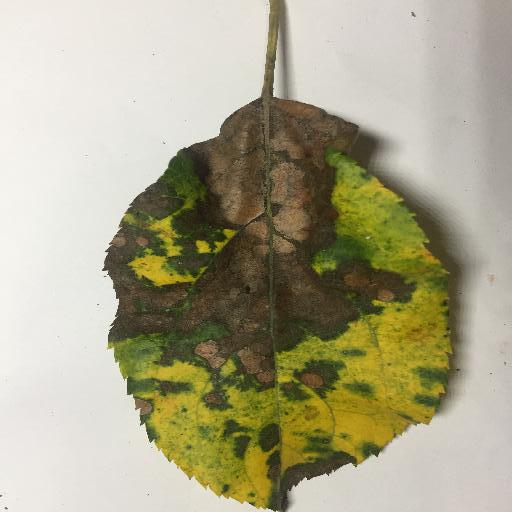Brown_Spot: (116, 99, 428, 344), (242, 350, 279, 393), (190, 345, 235, 376), (294, 366, 329, 400), (126, 392, 153, 418), (201, 390, 235, 410)
